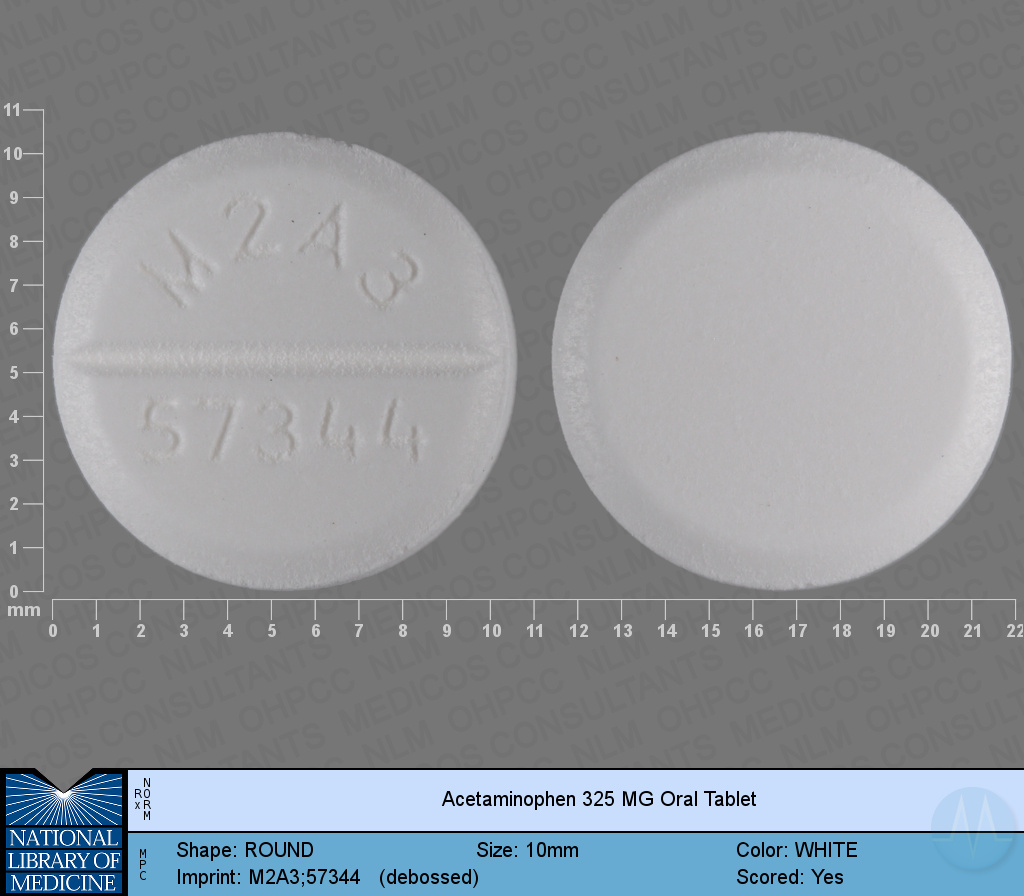Acetaminophen 325 MG Oral Tablet: (45, 130, 535, 595), (542, 120, 1024, 589)
